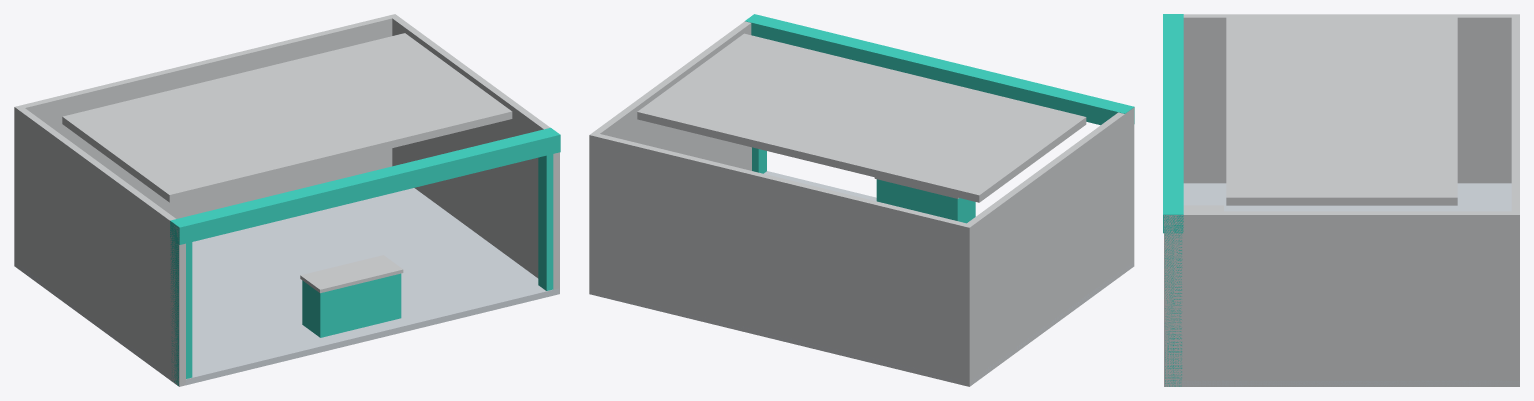
3 renders of one model, left to right at view 1: azimuth 30°, elevation 25°; view 2: azimuth 150°, elevation 25°; view 3: azimuth 270°, elevation 25°, orthographic. The views are drawn at different scales.
Visible parts, largest first — view 1: Exhibition Booth Concept; view 2: Exhibition Booth Concept; view 3: Exhibition Booth Concept.
Part boxes in pixels (x1=…): Exhibition Booth Concept: x1=14, y1=14, x2=560, y2=386; Exhibition Booth Concept: x1=589, y1=14, x2=1134, y2=386; Exhibition Booth Concept: x1=1163, y1=14, x2=1519, y2=386.
Bounding box in the file's own units: 8 × 3.34 × 6.02.
